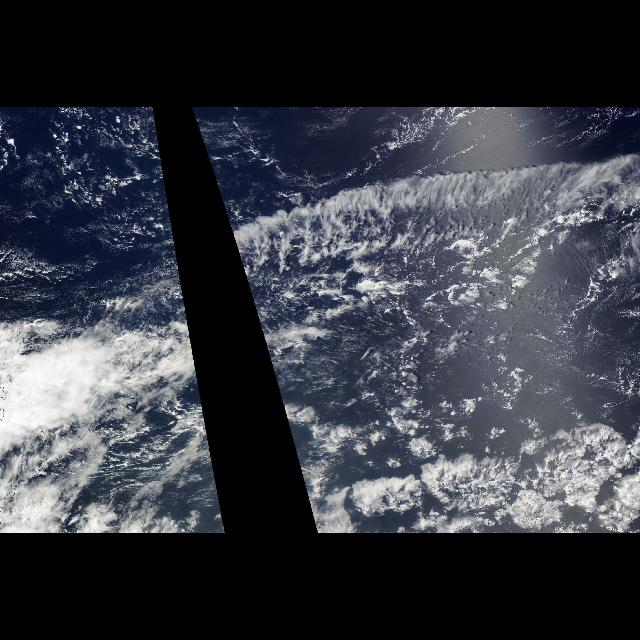Fish: (205, 145, 638, 409), (129, 145, 203, 409)
Flower: (337, 416, 639, 532)
Gravel: (1, 109, 187, 308), (192, 109, 222, 205)
